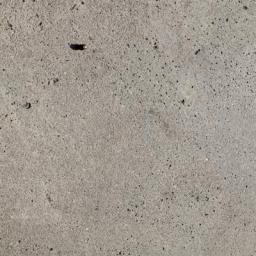FOD: (67, 37, 92, 57)
